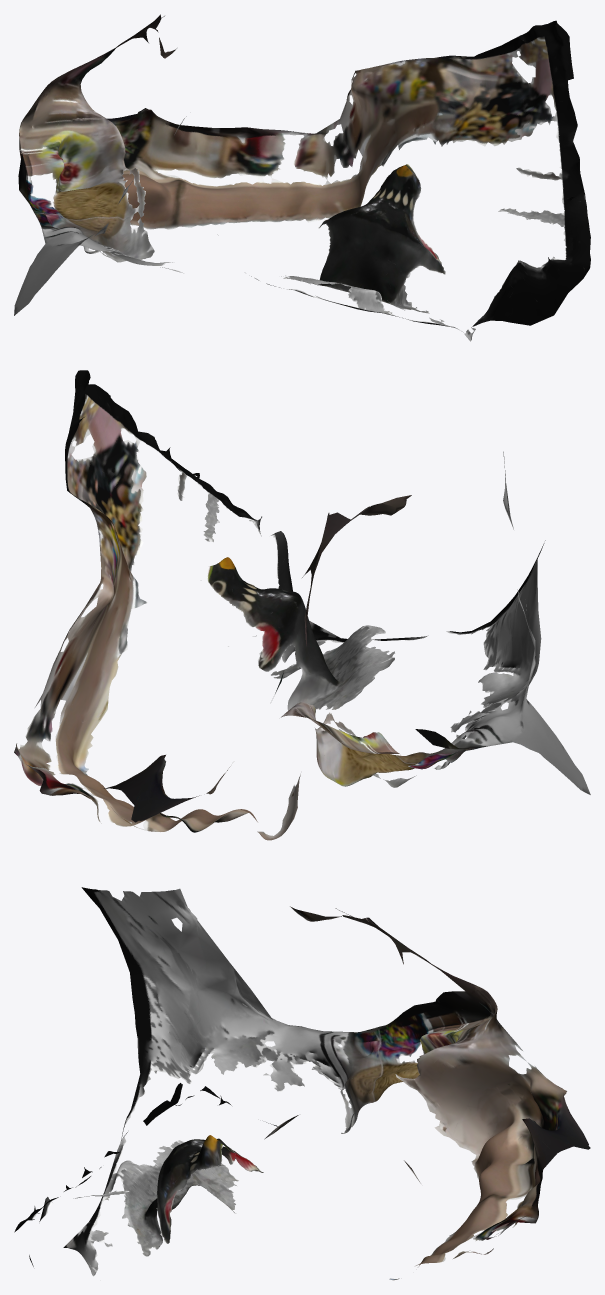
The picture shows the model from 3 angles, top to bottom: view 1: azimuth 30°, elevation 25°; view 2: azimuth 150°, elevation 25°; view 3: azimuth 270°, elevation 25°; orthographic projection. The views are drawn at different scales.
Size of the model in its own units: 0.9244 by 0.4757 by 0.9103.
1 material, 1 textured.
